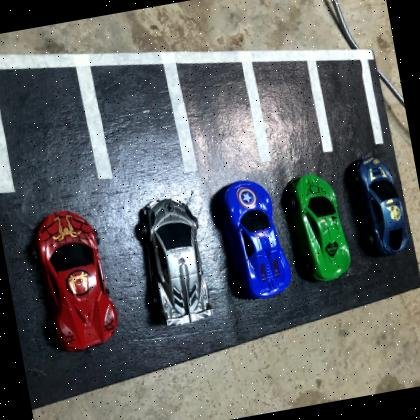Car: (32, 204, 124, 355), (139, 193, 214, 329), (222, 174, 296, 303), (293, 168, 356, 284), (352, 149, 414, 260)
